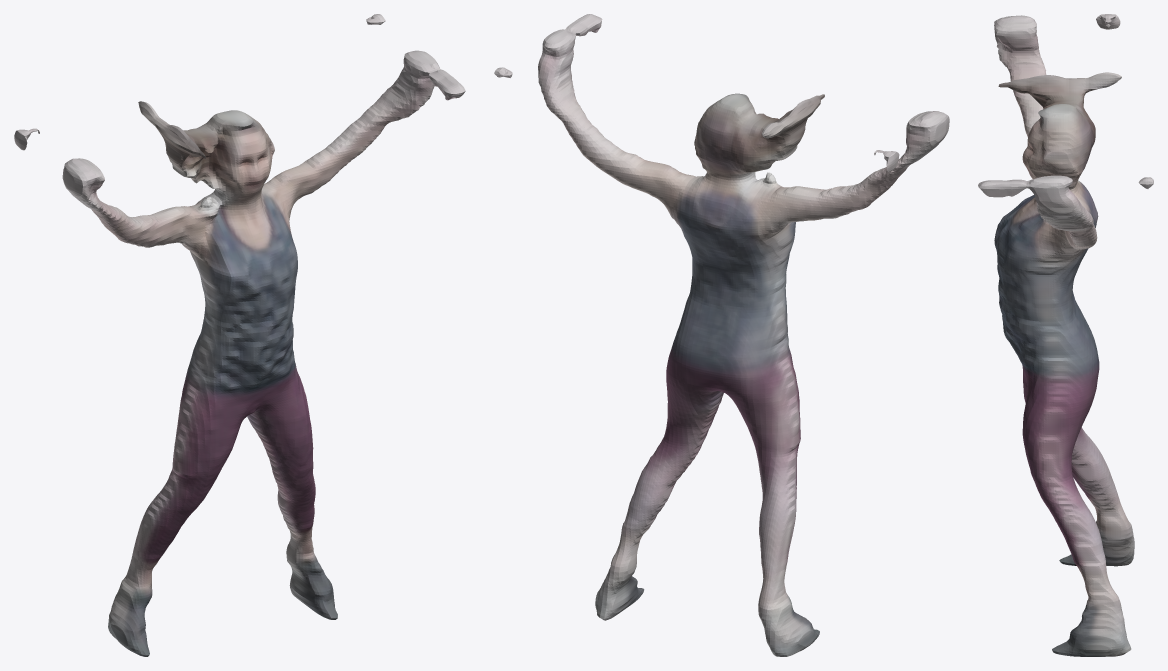
The model's file is 0121_tex.glb.
3 views of the same model, side by side, from view 1: azimuth 30°, elevation 25°; view 2: azimuth 150°, elevation 25°; view 3: azimuth 270°, elevation 25° (orthographic). The views are drawn at different scales.
Visible parts, largest first — view 1: 0121_tex.obj; view 2: 0121_tex.obj; view 3: 0121_tex.obj.
Part boxes in pixels (left/top/right/bottom): 0121_tex.obj: left=14, top=14, right=465, bottom=656; 0121_tex.obj: left=494, top=14, right=949, bottom=656; 0121_tex.obj: left=978, top=14, right=1153, bottom=656.
Size of the model in its own units: 0.6614 by 0.9013 by 0.2769.
